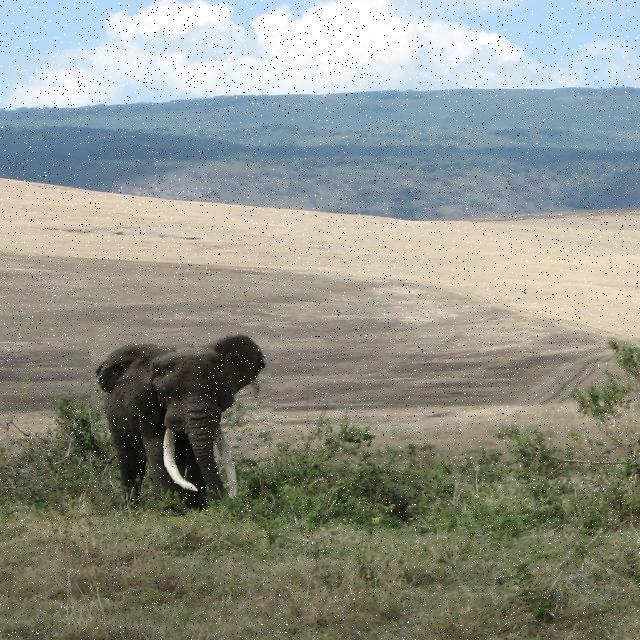elephant: (91, 326, 275, 517)
